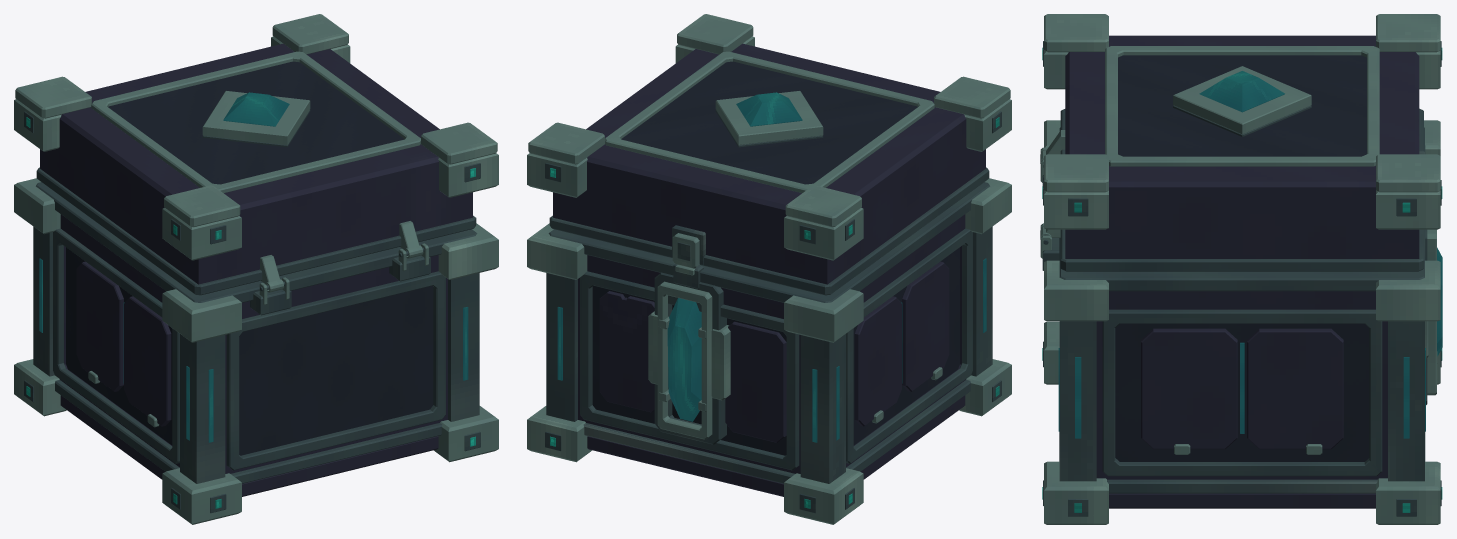
File: relic.glb
The picture shows the model from 3 angles, left to right: view 1: azimuth 30°, elevation 25°; view 2: azimuth 150°, elevation 25°; view 3: azimuth 270°, elevation 25°; orthographic projection. The views are drawn at different scales.
Parts seen in each view (by area): view 1: Body.Edge, LidAssembly.Shell, Body.Panel, LidAssembly.Metal, Body.Shell, LidAssembly.Panel, Body.Metal, LidAssembly.Edge, LidAssembly.Crystal, Body.Crystal; view 2: Body.Edge, LidAssembly.Shell, Body.Shell, LidAssembly.Metal, Body.Metal, LidAssembly.Panel, LidAssembly.Edge, Body.Panel, Body.Crystal, LidAssembly.Crystal; view 3: LidAssembly.Shell, Body.Shell, Body.Edge, LidAssembly.Metal, LidAssembly.Panel, Body.Metal, Body.Panel, LidAssembly.Edge, Body.Crystal, LidAssembly.Crystal.
Boxes of the visible parts, box(x1,y1,x2,y2) form: Body.Edge: box(24, 182, 480, 513); LidAssembly.Shell: box(40, 43, 472, 284); Body.Panel: box(66, 247, 433, 455); LidAssembly.Metal: box(14, 14, 498, 292); Body.Shell: box(59, 214, 447, 496); LidAssembly.Panel: box(108, 61, 404, 184); Body.Metal: box(14, 178, 498, 524); LidAssembly.Edge: box(24, 110, 480, 295); LidAssembly.Crystal: box(223, 92, 289, 126); Body.Crystal: box(39, 258, 468, 442); Body.Edge: box(545, 182, 1001, 513); LidAssembly.Shell: box(553, 43, 985, 284); Body.Shell: box(578, 214, 966, 496); LidAssembly.Metal: box(527, 14, 1011, 268); Body.Metal: box(527, 178, 1011, 524); LidAssembly.Panel: box(621, 61, 917, 184); LidAssembly.Edge: box(545, 110, 1001, 295); Body.Panel: box(592, 247, 959, 455); Body.Crystal: box(557, 258, 986, 442); LidAssembly.Crystal: box(736, 92, 802, 126); LidAssembly.Shell: box(1065, 35, 1419, 258); Body.Shell: box(1096, 291, 1387, 508); Body.Edge: box(1042, 127, 1441, 516); LidAssembly.Metal: box(1040, 14, 1440, 239); LidAssembly.Panel: box(1118, 55, 1366, 156); Body.Metal: box(1040, 120, 1440, 524); Body.Panel: box(1115, 323, 1369, 461); LidAssembly.Edge: box(1043, 41, 1441, 271); Body.Crystal: box(1058, 247, 1442, 438); LidAssembly.Crystal: box(1199, 71, 1284, 112).
Size of the model in its own units: 0.9737 by 0.9803 by 0.9806.
Materials: 7 (7 with a texture image).
